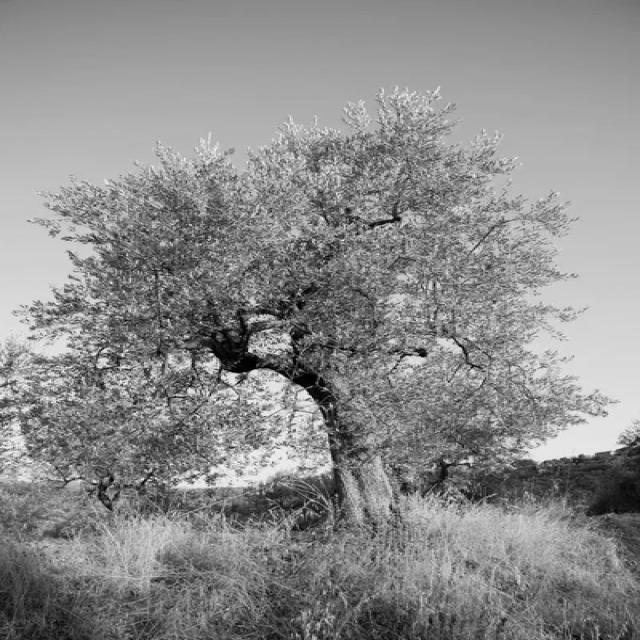Tree: (29, 90, 606, 527)
